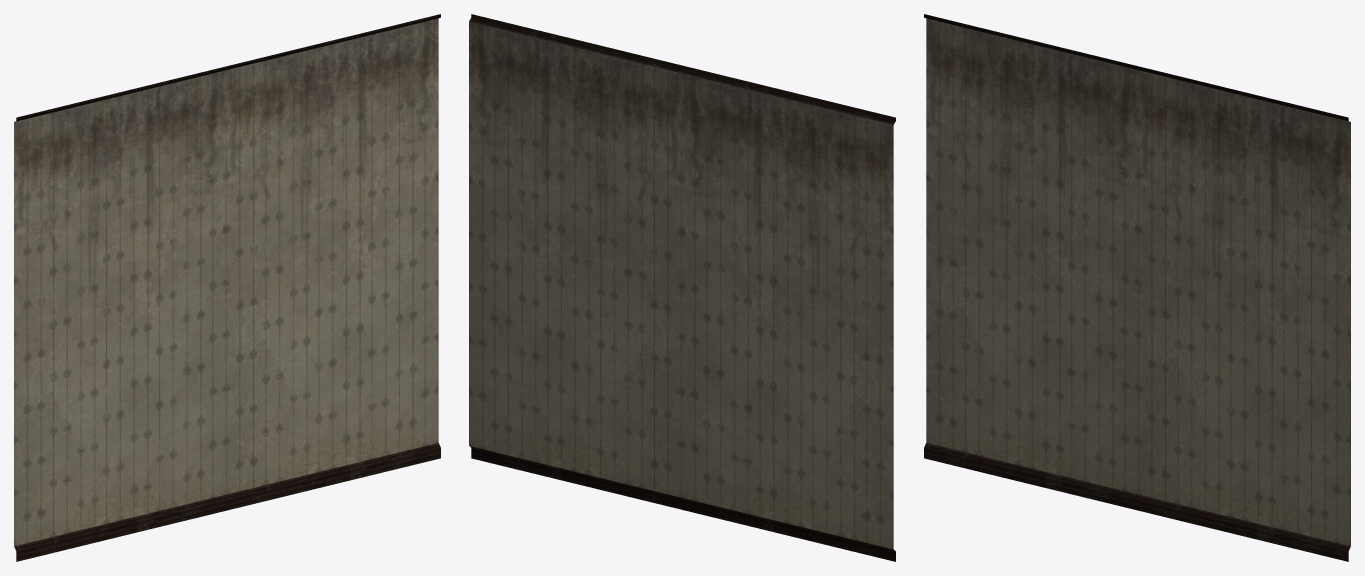
Rendered from hallway_damaged_flat.dae.
3 views of the same model, side by side, from view 1: azimuth 30°, elevation 25°; view 2: azimuth 150°, elevation 25°; view 3: azimuth 330°, elevation 25° (orthographic).
Visible parts, largest first — view 1: polySurface7; view 2: polySurface7; view 3: polySurface7.
Boxes of the visible parts, x1,y1,x2,y2 form: polySurface7: [14, 14, 440, 561]; polySurface7: [469, 14, 895, 561]; polySurface7: [924, 14, 1350, 561].
Bounding box in the file's own units: 4 × 4 × 0.0341.
